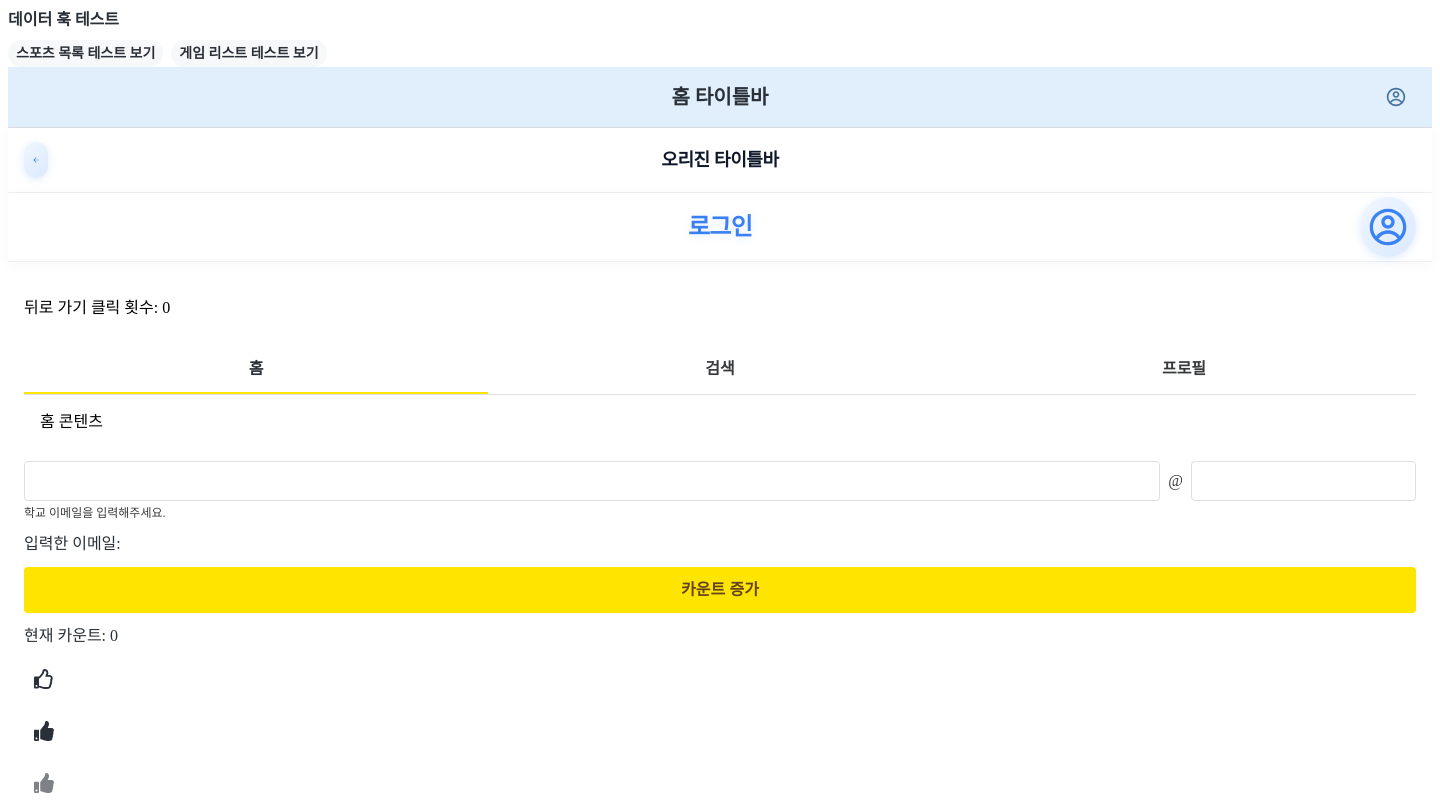
Test: ComponentTestPage › 내비게이션 탭을 렌더링하고 콘텐츠를 전환한다
Check: the tab "홈" is shown, box [24,346,488,394]
Click the tab "검색" at (720, 370), box [488,346,952,394]
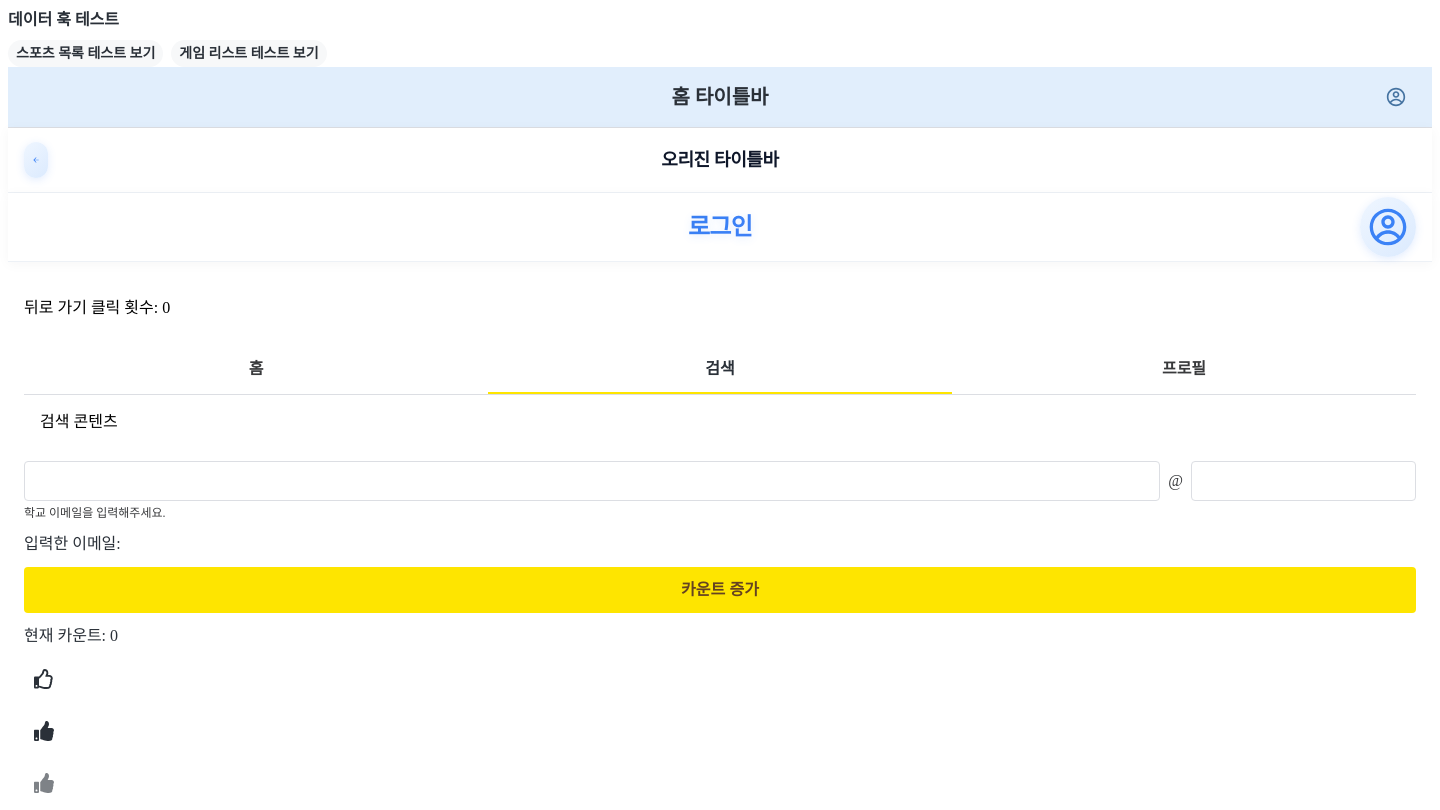
Check: the text "검색 콘텐츠" is shown, box [40,413,118,430]
